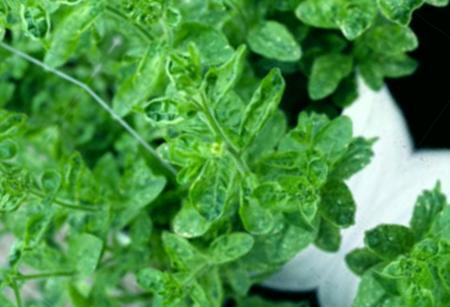Tomato leaf mosaic virus: (170, 139, 256, 232), (227, 61, 301, 148), (194, 216, 262, 287), (332, 0, 386, 47), (300, 146, 342, 193)
